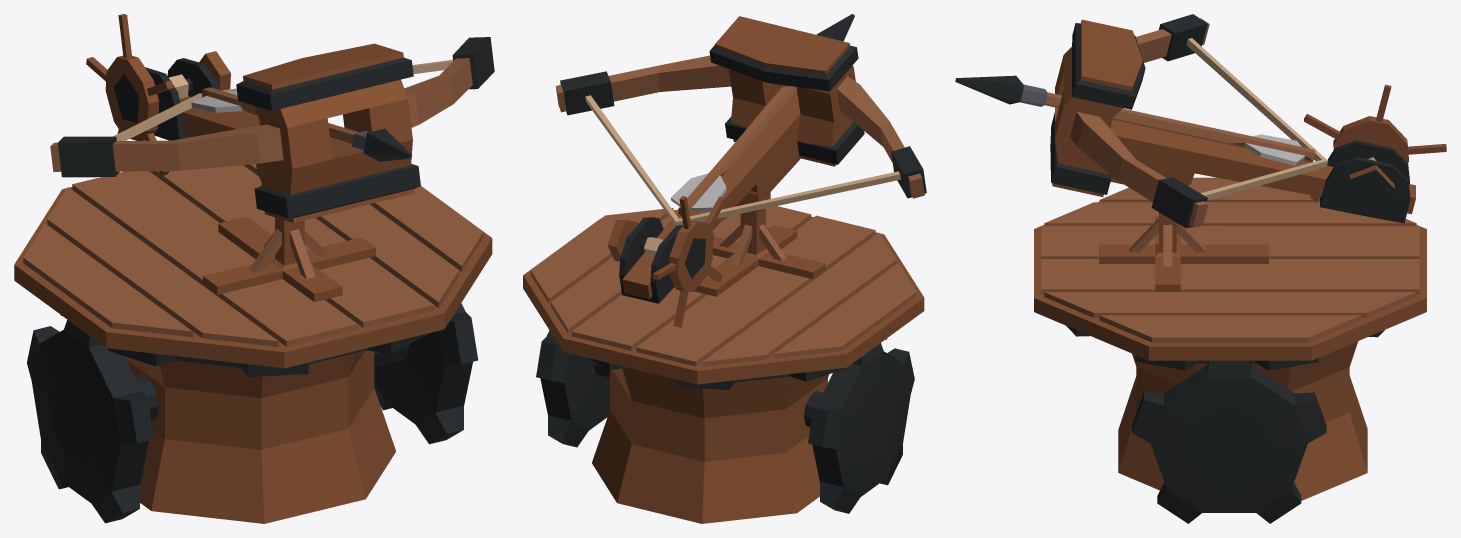
The model's file is xbow-1.glb.
3 renders of one model, left to right at view 1: azimuth 30°, elevation 25°; view 2: azimuth 150°, elevation 25°; view 3: azimuth 270°, elevation 25°, orthographic. The views are drawn at different scales.
Parts seen in each view (by area): view 1: Crossbow001; view 2: Crossbow001; view 3: Crossbow001.
Part boxes in pixels (<box>): Crossbow001: <box>14,14,494,523</box>; Crossbow001: <box>523,14,926,523</box>; Crossbow001: <box>955,14,1446,523</box>.
Bounding box in the file's own units: 2.21 × 2.21 × 2.43.
Materials: 1 (1 with a texture image).
